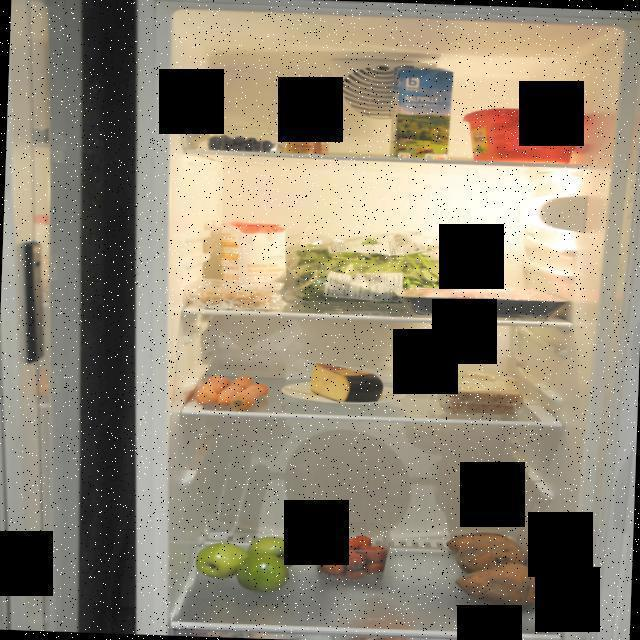apple: (191, 532, 305, 595)
blueberries: (202, 123, 284, 153)
bread: (431, 371, 528, 416)
butter: (460, 102, 589, 166)
carrot: (186, 372, 274, 411)
cheese: (306, 359, 388, 405)
corn: (282, 124, 331, 156)
ground_beef: (386, 282, 574, 320)
milk: (386, 57, 458, 161)
spinach: (288, 240, 473, 304)
strawberries: (304, 530, 392, 584)
sugar: (213, 217, 293, 307)
sweet_potato: (441, 528, 548, 610)
